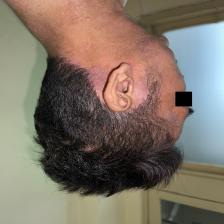Psoriasis vulgaris: (53, 51, 103, 100), (133, 64, 161, 112)
